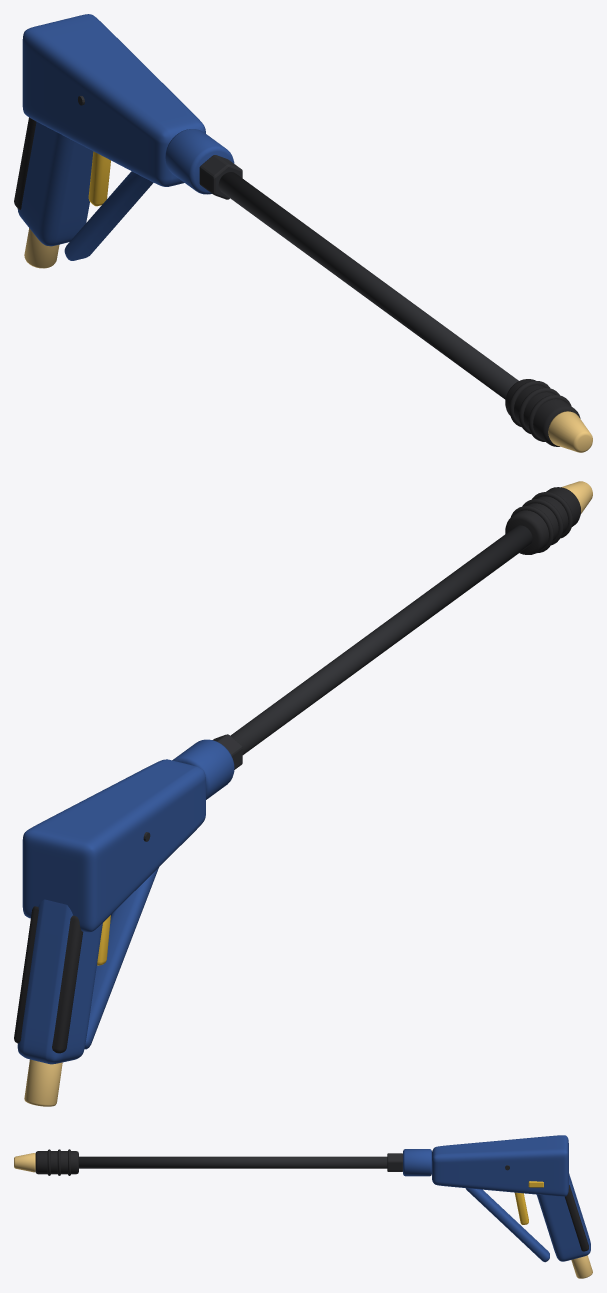
Rendered from LanceHP.fbx.
3 renders of one model, top to bottom at view 1: azimuth 30°, elevation 25°; view 2: azimuth 150°, elevation 25°; view 3: azimuth 270°, elevation 25°, orthographic. The views are drawn at different scales.
Visible parts, largest first — view 1: LanceHP_Body, LanceHP_Wand, LanceHP_Grip, LanceHP_Guard, LanceHP_Collar, LanceHP_NozzleBody, LanceHP_NozzleTip, LanceHP_Nut, LanceHP_Trigger, LanceHP_HoseFitting, LanceHP_GripPad; view 2: LanceHP_Body, LanceHP_Wand, LanceHP_Grip, LanceHP_Guard, LanceHP_GripPad, LanceHP_NozzleBody, LanceHP_Collar, LanceHP_HoseFitting; view 3: LanceHP_Body, LanceHP_Wand, LanceHP_Grip, LanceHP_Guard, LanceHP_NozzleBody, LanceHP_Collar, LanceHP_GripPad, LanceHP_HoseFitting, LanceHP_NozzleTip, LanceHP_Trigger, LanceHP_Nut.
Part boxes in pixels (bbox=[...]): LanceHP_Body: bbox=[22, 14, 205, 186]; LanceHP_Wand: bbox=[218, 172, 518, 399]; LanceHP_Grip: bbox=[17, 122, 93, 246]; LanceHP_Guard: bbox=[64, 171, 153, 260]; LanceHP_Collar: bbox=[165, 129, 234, 194]; LanceHP_NozzleBody: bbox=[505, 379, 580, 446]; LanceHP_NozzleTip: bbox=[548, 411, 592, 452]; LanceHP_Nut: bbox=[199, 155, 242, 199]; LanceHP_Trigger: bbox=[88, 151, 110, 206]; LanceHP_HoseFitting: bbox=[24, 228, 59, 268]; LanceHP_GripPad: bbox=[14, 117, 36, 209]; LanceHP_Body: bbox=[22, 759, 205, 932]; LanceHP_Wand: bbox=[230, 525, 532, 754]; LanceHP_Grip: bbox=[17, 899, 102, 1064]; LanceHP_Guard: bbox=[84, 867, 158, 1049]; LanceHP_GripPad: bbox=[14, 906, 83, 1053]; LanceHP_NozzleBody: bbox=[505, 487, 580, 554]; LanceHP_Collar: bbox=[172, 739, 234, 799]; LanceHP_HoseFitting: bbox=[24, 1059, 62, 1106]; LanceHP_Body: bbox=[432, 1135, 568, 1196]; LanceHP_Wand: bbox=[79, 1156, 387, 1168]; LanceHP_Grip: bbox=[537, 1173, 590, 1261]; LanceHP_Guard: bbox=[465, 1188, 549, 1262]; LanceHP_NozzleBody: bbox=[35, 1151, 78, 1174]; LanceHP_Collar: bbox=[403, 1149, 431, 1176]; LanceHP_GripPad: bbox=[565, 1185, 588, 1251]; LanceHP_HoseFitting: bbox=[571, 1255, 592, 1278]; LanceHP_NozzleTip: bbox=[14, 1153, 35, 1172]; LanceHP_Trigger: bbox=[514, 1192, 528, 1224]; LanceHP_Nut: bbox=[387, 1153, 402, 1171].
Size of the model in its own units: 0.0619 by 0.2058 by 0.8035.
